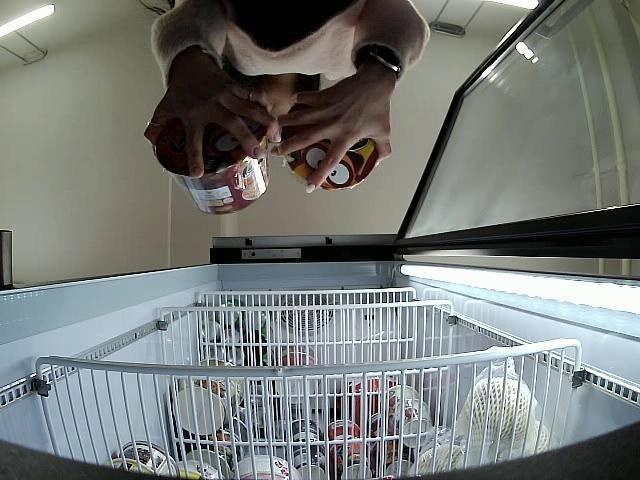05_nuguri_L: (156, 109, 273, 216), (286, 102, 378, 190)
